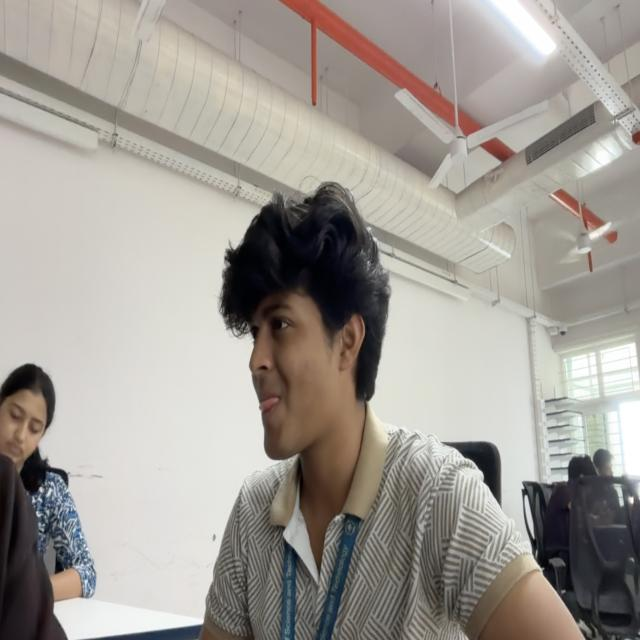kshitij: (222, 189, 390, 459)
